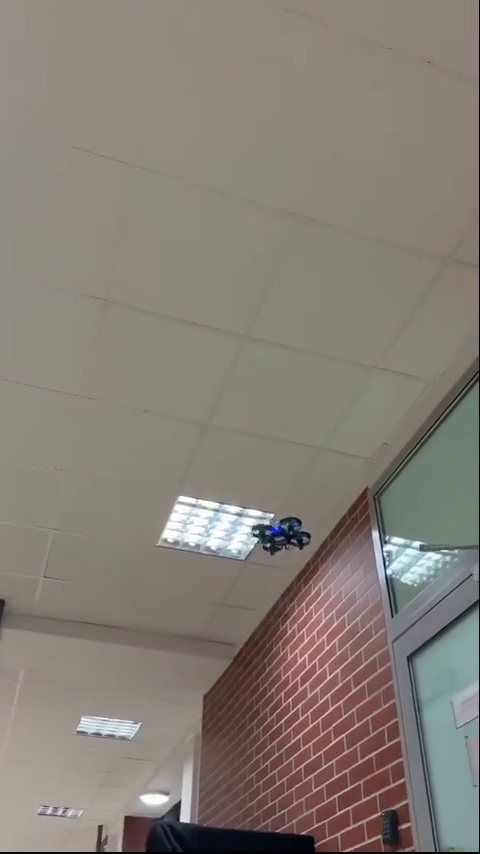drone: (253, 515, 313, 557)
